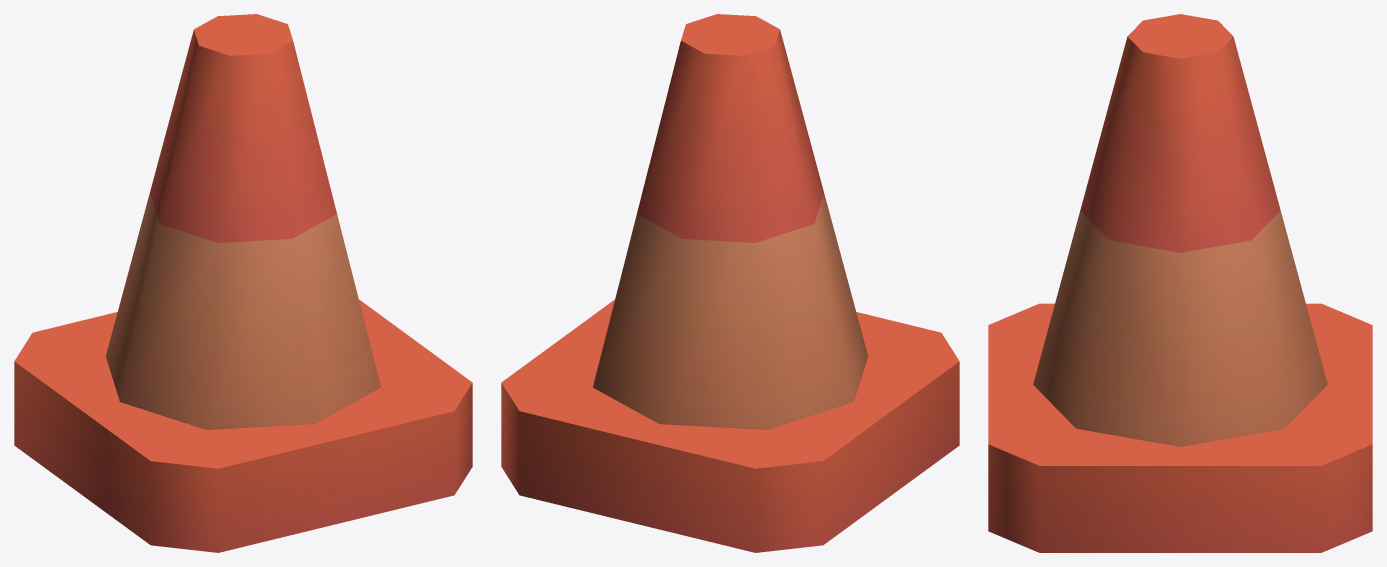
The model's file is construction-cone.glb.
3 views of the same model, side by side, from view 1: azimuth 30°, elevation 25°; view 2: azimuth 150°, elevation 25°; view 3: azimuth 270°, elevation 25° (orthographic). The views are drawn at different scales.
Parts seen in each view (by area): view 1: construction-cone; view 2: construction-cone; view 3: construction-cone.
Part boxes in pixels (x1=…): construction-cone: x1=14, y1=14, x2=472, y2=552; construction-cone: x1=501, y1=14, x2=959, y2=552; construction-cone: x1=988, y1=14, x2=1372, y2=552.
Bounding box in the file's own units: 0.075 × 0.0938 × 0.075.
Materials: 1 (1 with a texture image).
